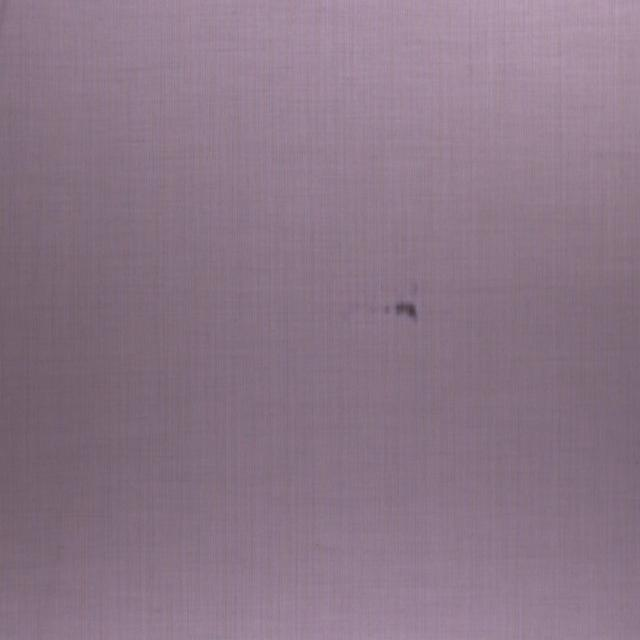dirty: (348, 304, 388, 313), (391, 305, 414, 315), (408, 280, 418, 294)
